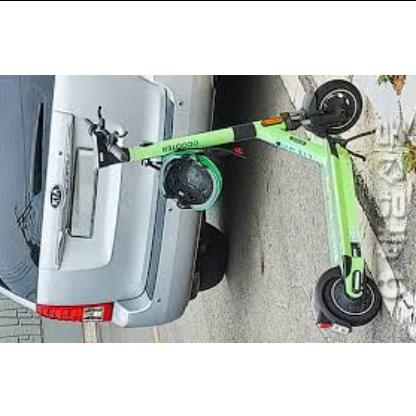bike: (1, 78, 380, 338)
